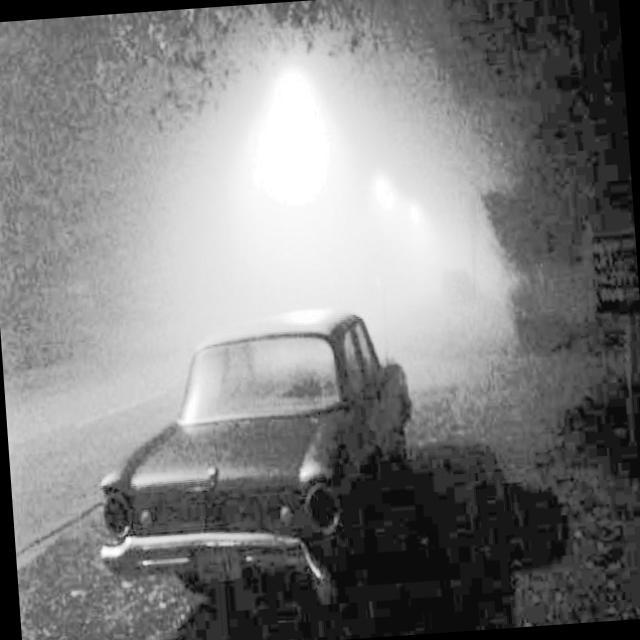Car: (94, 306, 438, 607)
